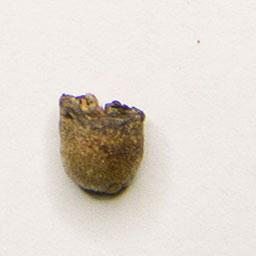defect: (47, 83, 153, 205)
